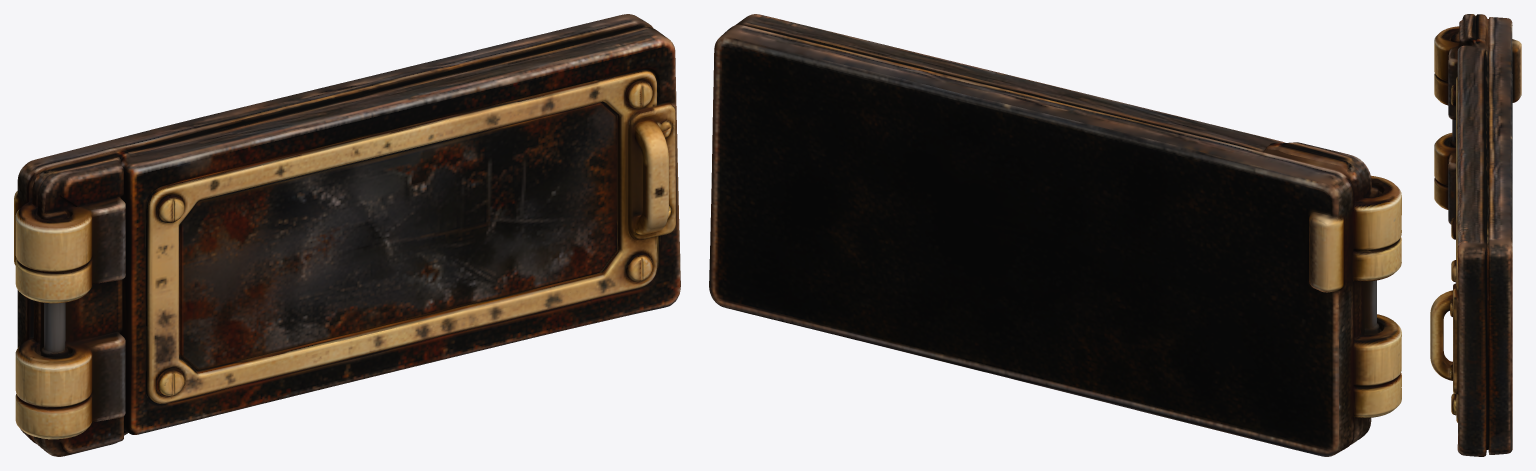
Rendered from door.glb.
3 renders of one model, left to right at view 1: azimuth 30°, elevation 25°; view 2: azimuth 150°, elevation 25°; view 3: azimuth 270°, elevation 25°, orthographic. The views are drawn at different scales.
Visible parts, largest first — view 1: Mesh_0; view 2: Mesh_0; view 3: Mesh_0.
Boxes of the visible parts, left/top/right/bottom form: Mesh_0: left=14, top=14, right=680, bottom=456; Mesh_0: left=709, top=14, right=1401, bottom=456; Mesh_0: left=1430, top=14, right=1521, bottom=456.
Size of the model in its own units: 1.13 by 0.4617 by 0.1766.
1 material, 1 textured.
